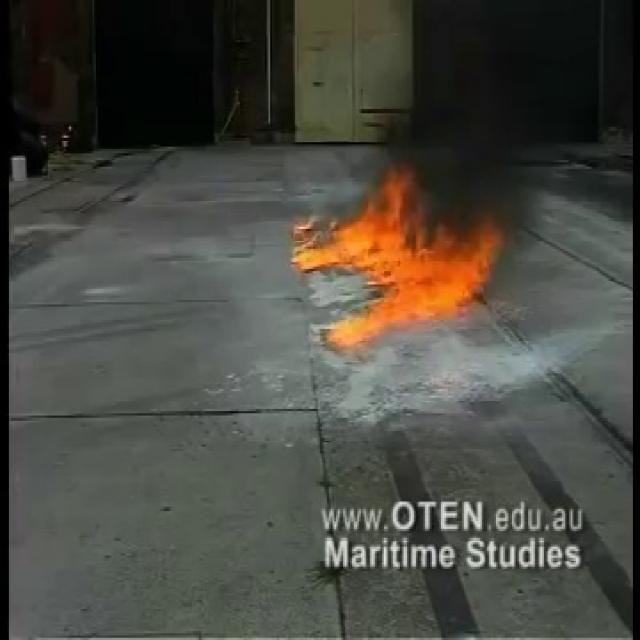Fire: (292, 164, 502, 348)
Smoke: (372, 0, 636, 218)
